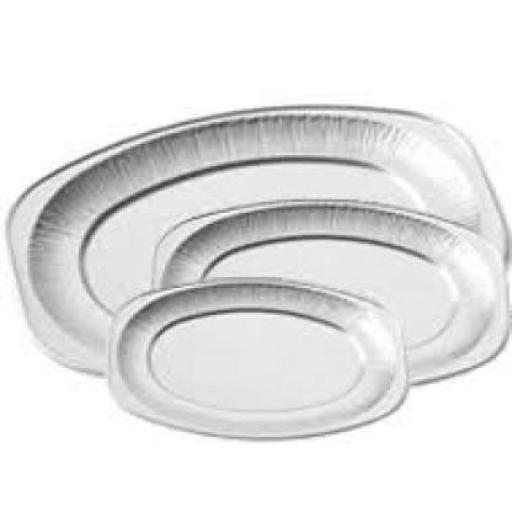metal: (2, 102, 510, 374), (146, 194, 510, 382), (105, 274, 407, 437)
